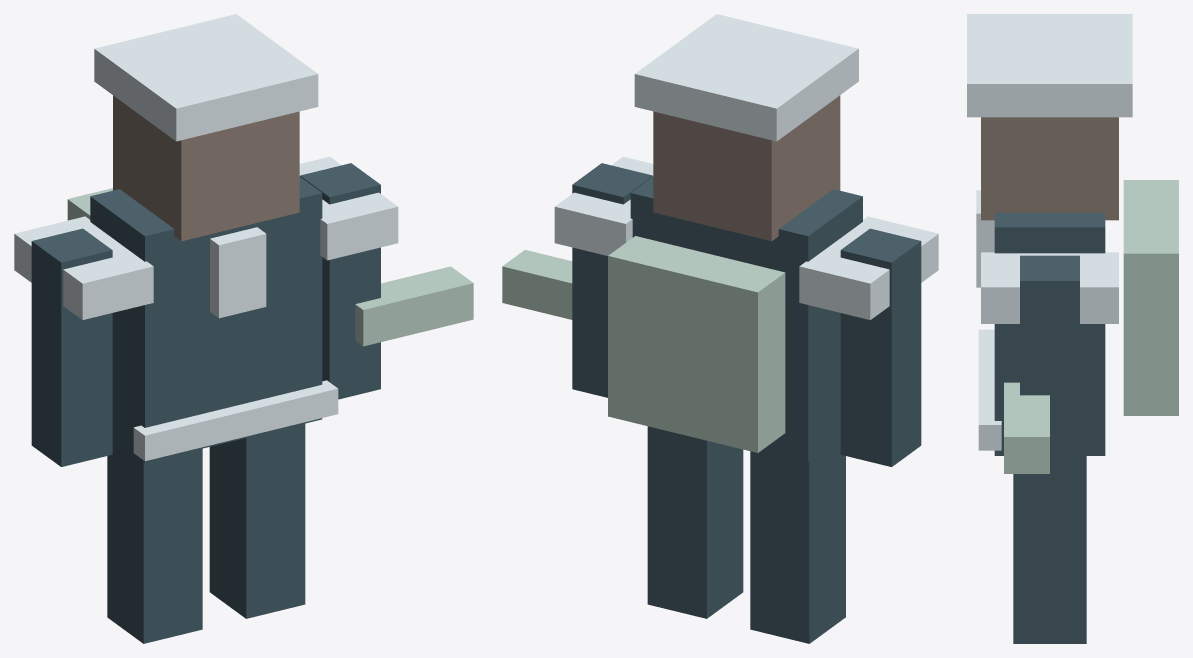
Rendered from 05_cassian_emberkin_marshal_under_observation.glb.
3 views of the same model, side by side, from view 1: azimuth 30°, elevation 25°; view 2: azimuth 150°, elevation 25°; view 3: azimuth 270°, elevation 25° (orthographic).
Visible parts, largest first — view 1: Cassian Emberkin, Marshal under Observation; view 2: Cassian Emberkin, Marshal under Observation; view 3: Cassian Emberkin, Marshal under Observation.
Boxes of the visible parts, x1,y1,x2,y2 form: Cassian Emberkin, Marshal under Observation: (14,14,473,643); Cassian Emberkin, Marshal under Observation: (502,14,938,643); Cassian Emberkin, Marshal under Observation: (967,14,1178,643).
Bounding box in the file's own units: 1.08 × 1.4 × 0.483.
